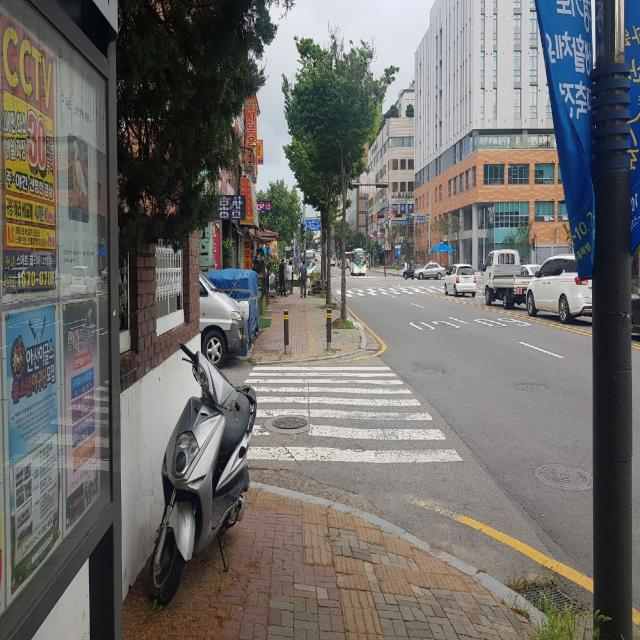횡단보도: (242, 362, 464, 465)
